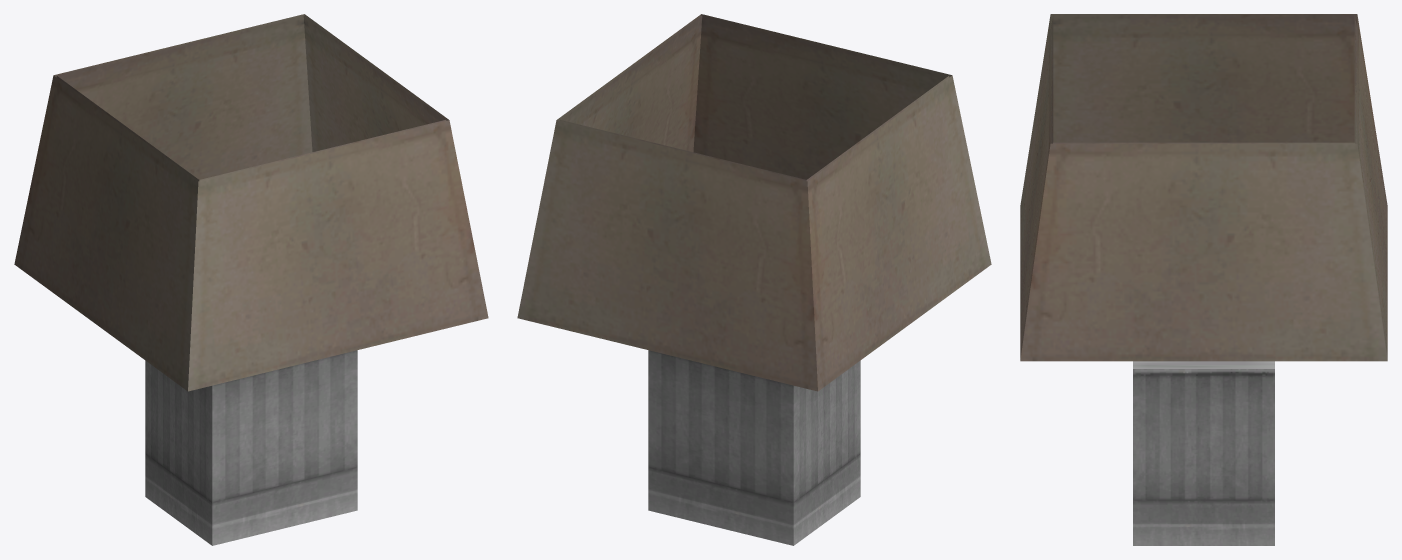
Rendered from furniture_lamp_table2_1_off_lod2.glb.
The picture shows the model from 3 angles, left to right: view 1: azimuth 30°, elevation 25°; view 2: azimuth 150°, elevation 25°; view 3: azimuth 270°, elevation 25°; orthographic projection. The views are drawn at different scales.
Parts seen in each view (by area): view 1: surf0; view 2: surf0; view 3: surf0.
Boxes of the visible parts, x1,y1,x2,y2 form: surf0: (14,14,488,545); surf0: (517,14,991,545); surf0: (1020,14,1387,545).
Size of the model in its own units: 16.32 by 21.06 by 16.32.
